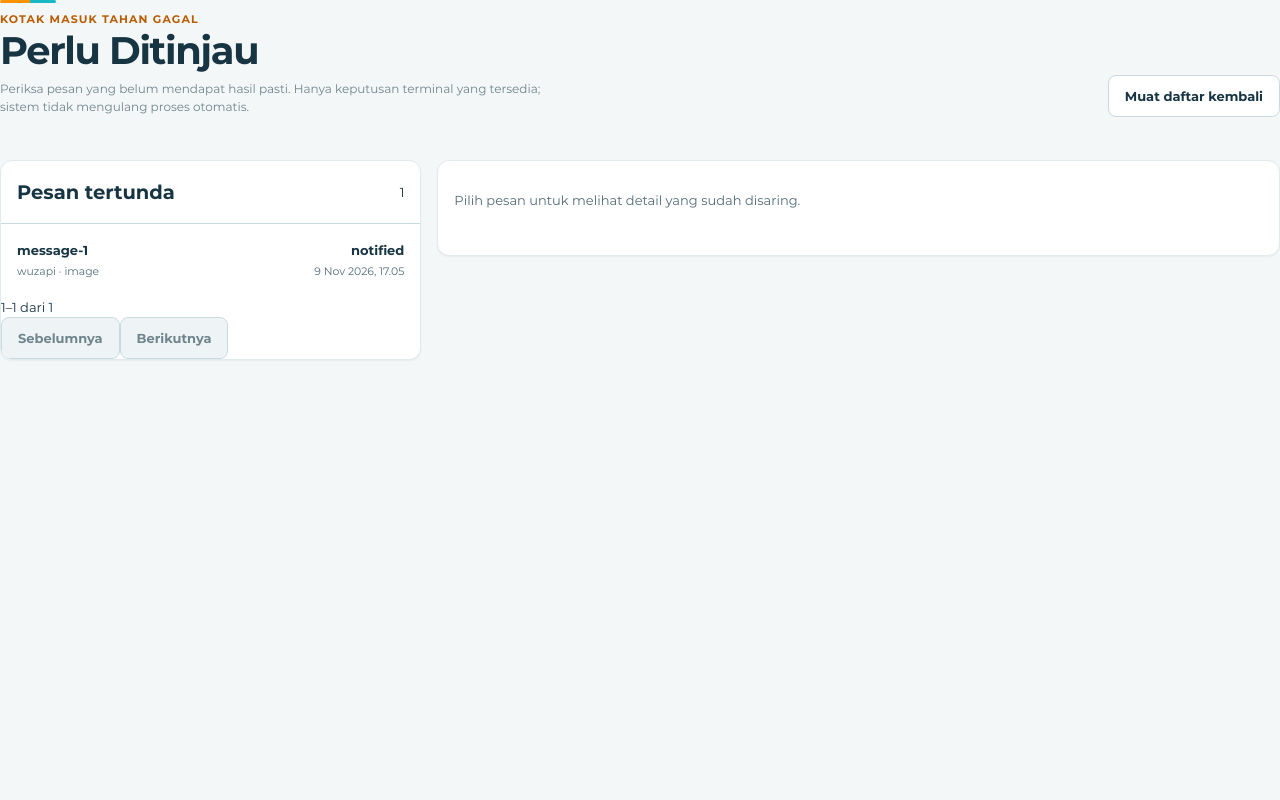
Scenario: Perlu Ditinjau workspace › keeps the same command after an uncertain result but gives no retry control
The image size is (1280, 800).
Click the button with aria-label "Tinjau message-1": click(53, 250) [1,224,420,297]
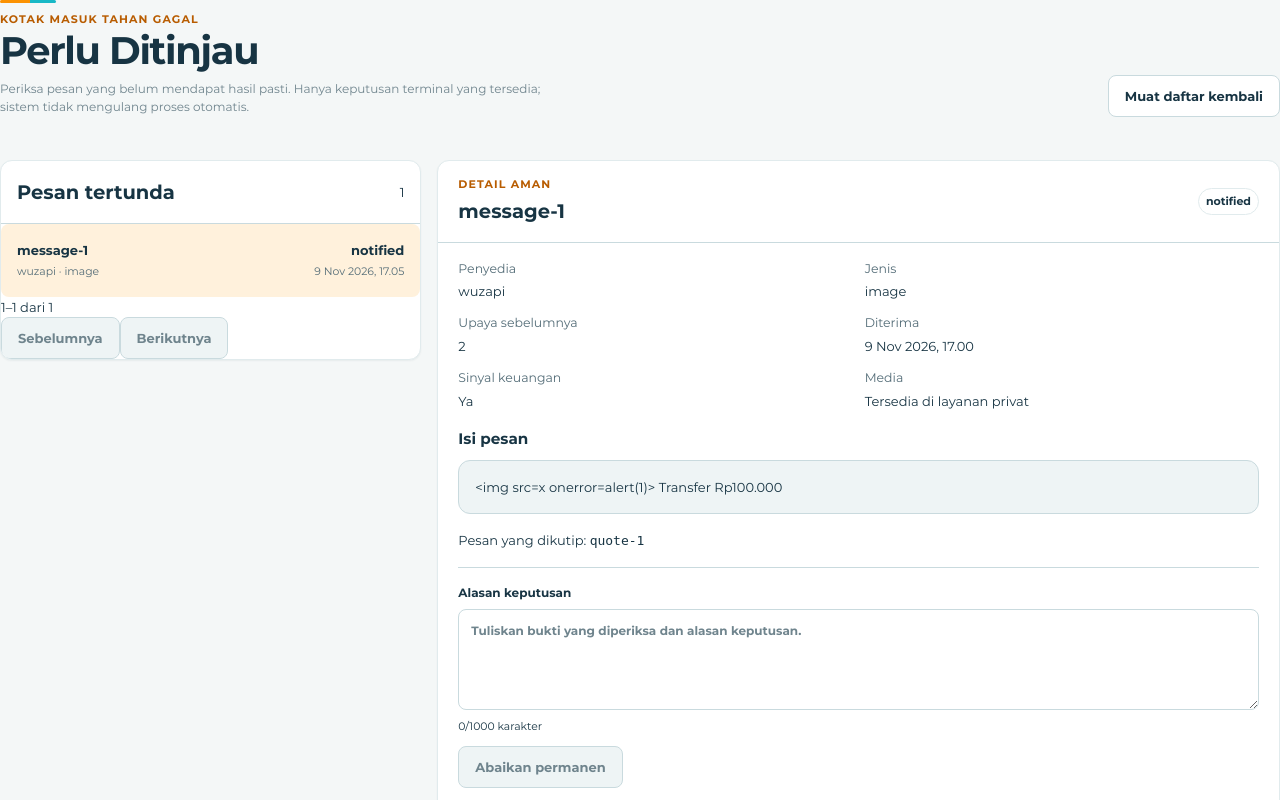
In the text box labelled "Alasan keputusan": (859, 659) [458,609,1259,710], type "Bukan transaksi"
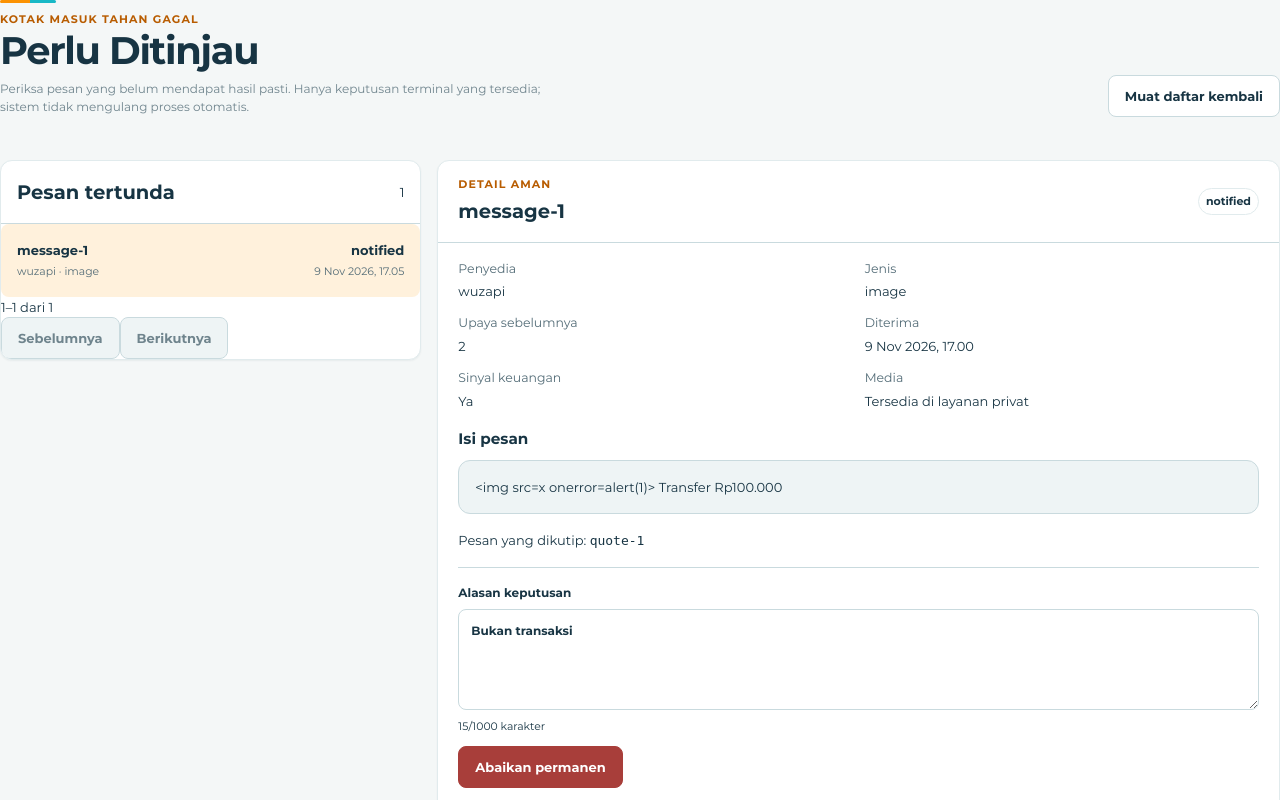
Click the button "Abaikan permanen": click(540, 767) [458,746,623,788]
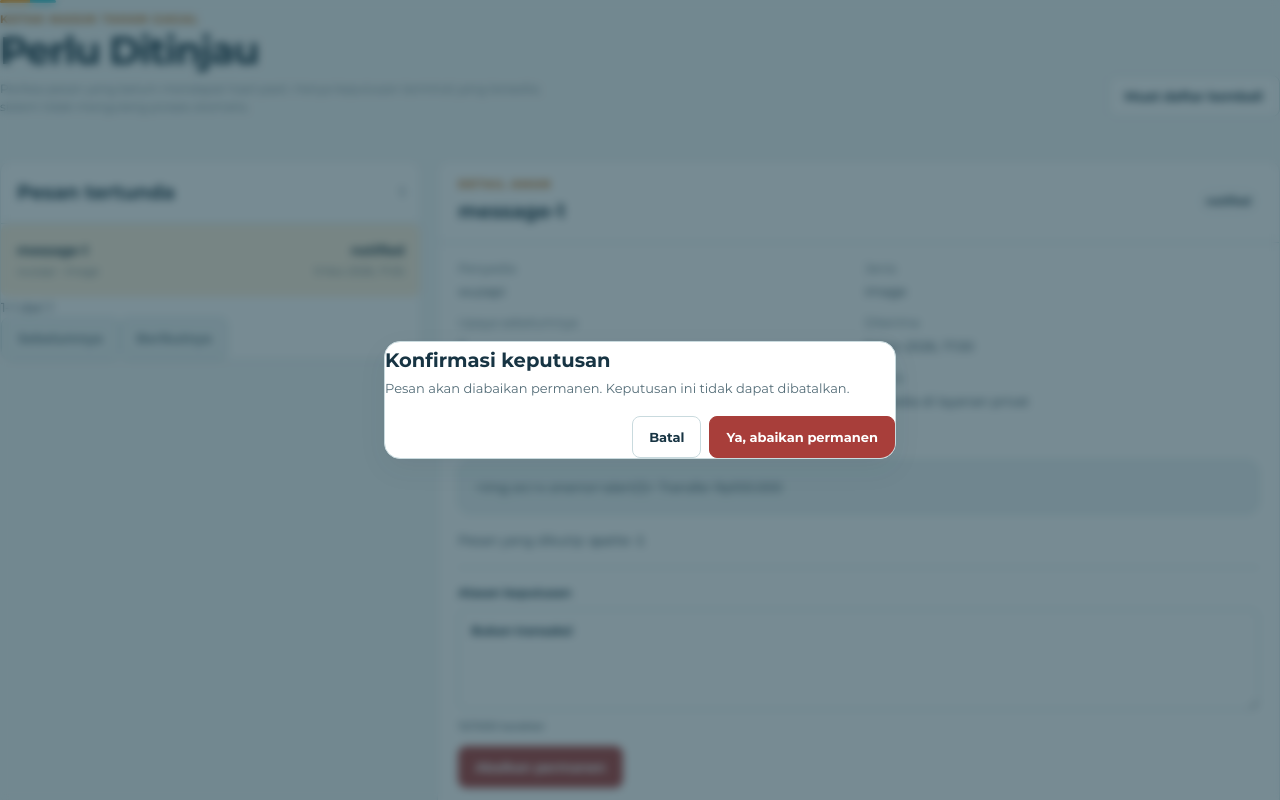
Click the button "Ya, abaikan permanen": click(802, 437) [710,416,895,458]
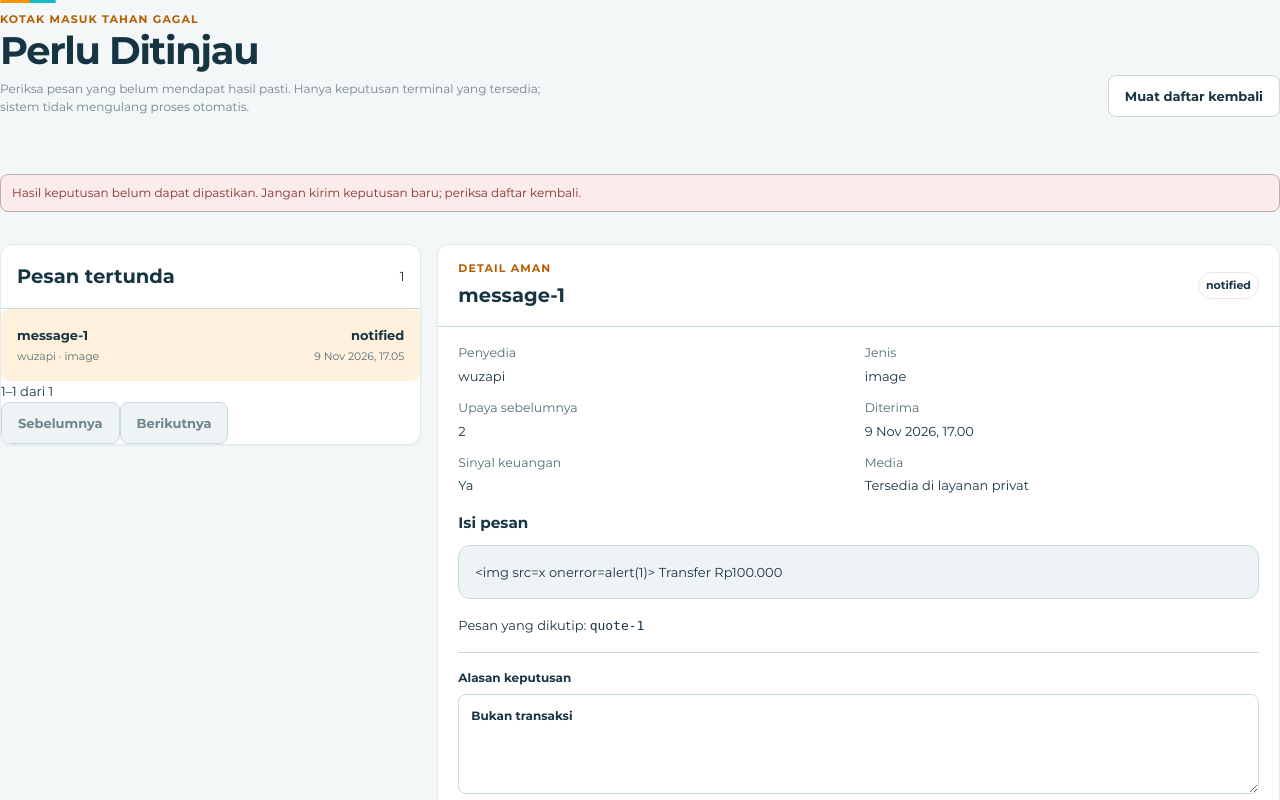
Expected: the message shows "belum dapat dipastikan", [12,185,581,200]
